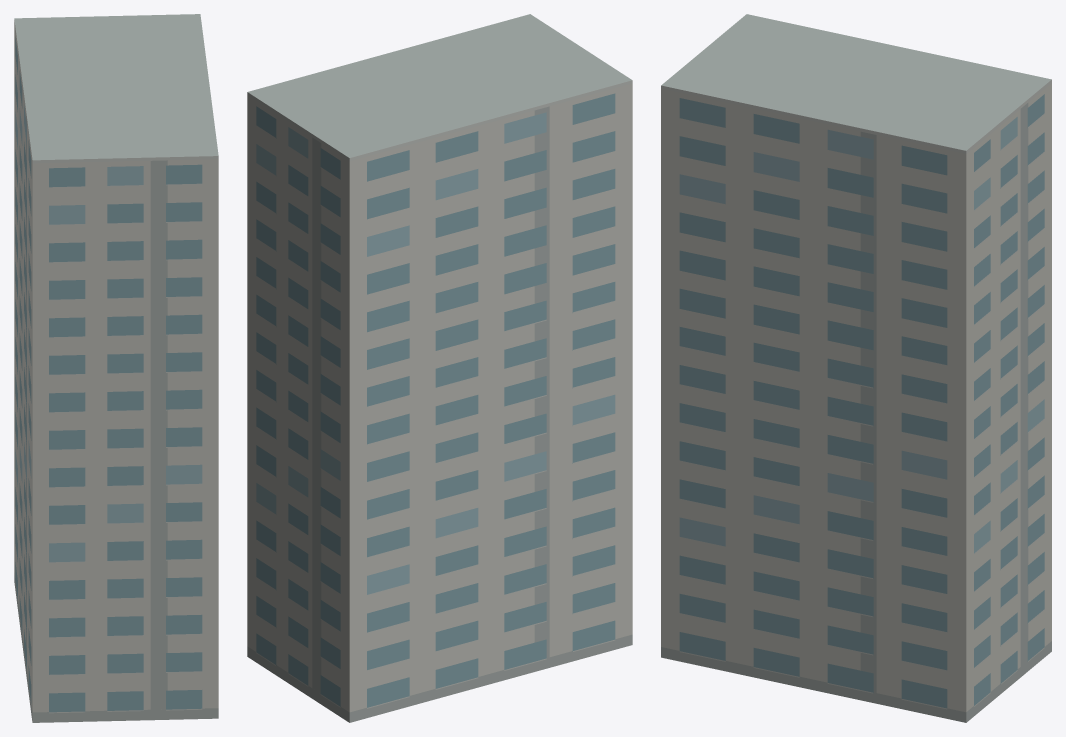
The model's file is residential-e7eaa6b3-32cb-40e0-ac5d-113d00e6889d.glb.
3 views of the same model, side by side, from view 1: azimuth 30°, elevation 25°; view 2: azimuth 150°, elevation 25°; view 3: azimuth 270°, elevation 25° (orthographic).
Visible parts, largest first — view 1: residential-e7eaa6b3-32cb-40e0-ac5d-113d00e6889d.tmp; view 2: residential-e7eaa6b3-32cb-40e0-ac5d-113d00e6889d.tmp; view 3: residential-e7eaa6b3-32cb-40e0-ac5d-113d00e6889d.tmp.
Part boxes in pixels (x1=…): residential-e7eaa6b3-32cb-40e0-ac5d-113d00e6889d.tmp: x1=14, y1=14, x2=218, y2=722; residential-e7eaa6b3-32cb-40e0-ac5d-113d00e6889d.tmp: x1=247, y1=14, x2=632, y2=722; residential-e7eaa6b3-32cb-40e0-ac5d-113d00e6889d.tmp: x1=661, y1=14, x2=1051, y2=722.
Bounding box in the file's own units: 21.56 × 42 × 26.01.
